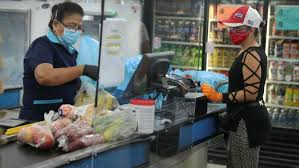Good: (21, 1, 267, 103)
